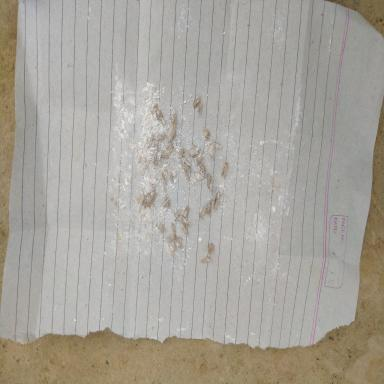pbw: (169, 108, 177, 126), (181, 156, 192, 168), (168, 123, 176, 139), (213, 190, 219, 211), (189, 145, 199, 157), (146, 190, 154, 204), (199, 158, 206, 174), (192, 172, 205, 180), (203, 128, 211, 141), (180, 161, 190, 171), (182, 216, 192, 226), (156, 114, 166, 124), (221, 162, 228, 176), (195, 151, 202, 164), (200, 206, 207, 219), (193, 94, 200, 107), (154, 103, 161, 116), (178, 147, 185, 159), (181, 224, 188, 236), (207, 244, 214, 256), (160, 170, 166, 184), (148, 134, 154, 148), (206, 201, 212, 214), (139, 194, 145, 206), (184, 170, 190, 182), (201, 256, 213, 262), (183, 206, 189, 218), (214, 142, 222, 151), (174, 214, 183, 222), (196, 103, 202, 114), (209, 177, 213, 193), (207, 174, 211, 188), (162, 198, 169, 206), (174, 210, 183, 215)
